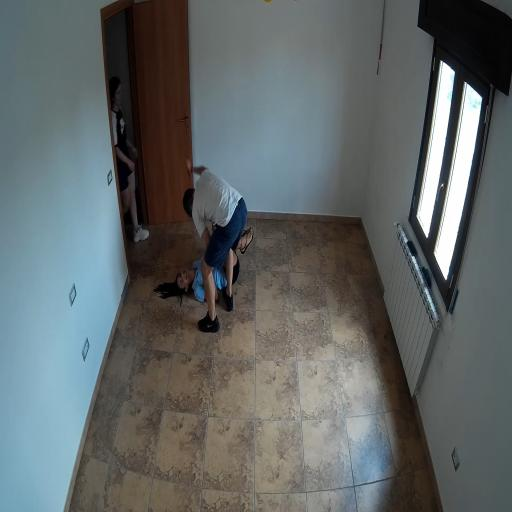violencia: (152, 144, 263, 339)
